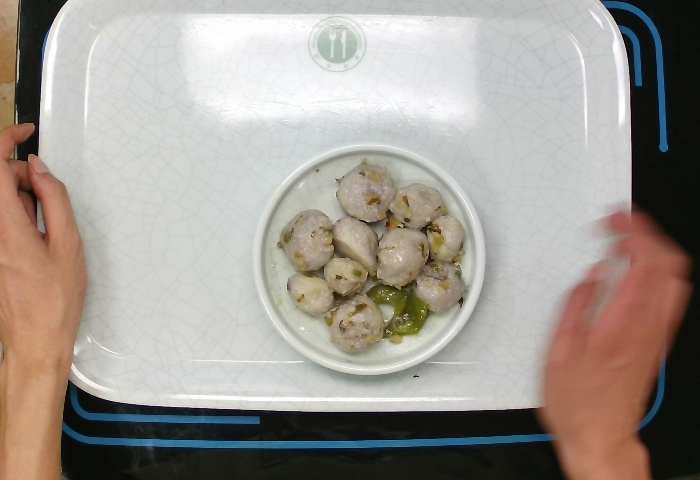JYsf-Xiao_Yuan_Pan: (249, 140, 490, 379)
